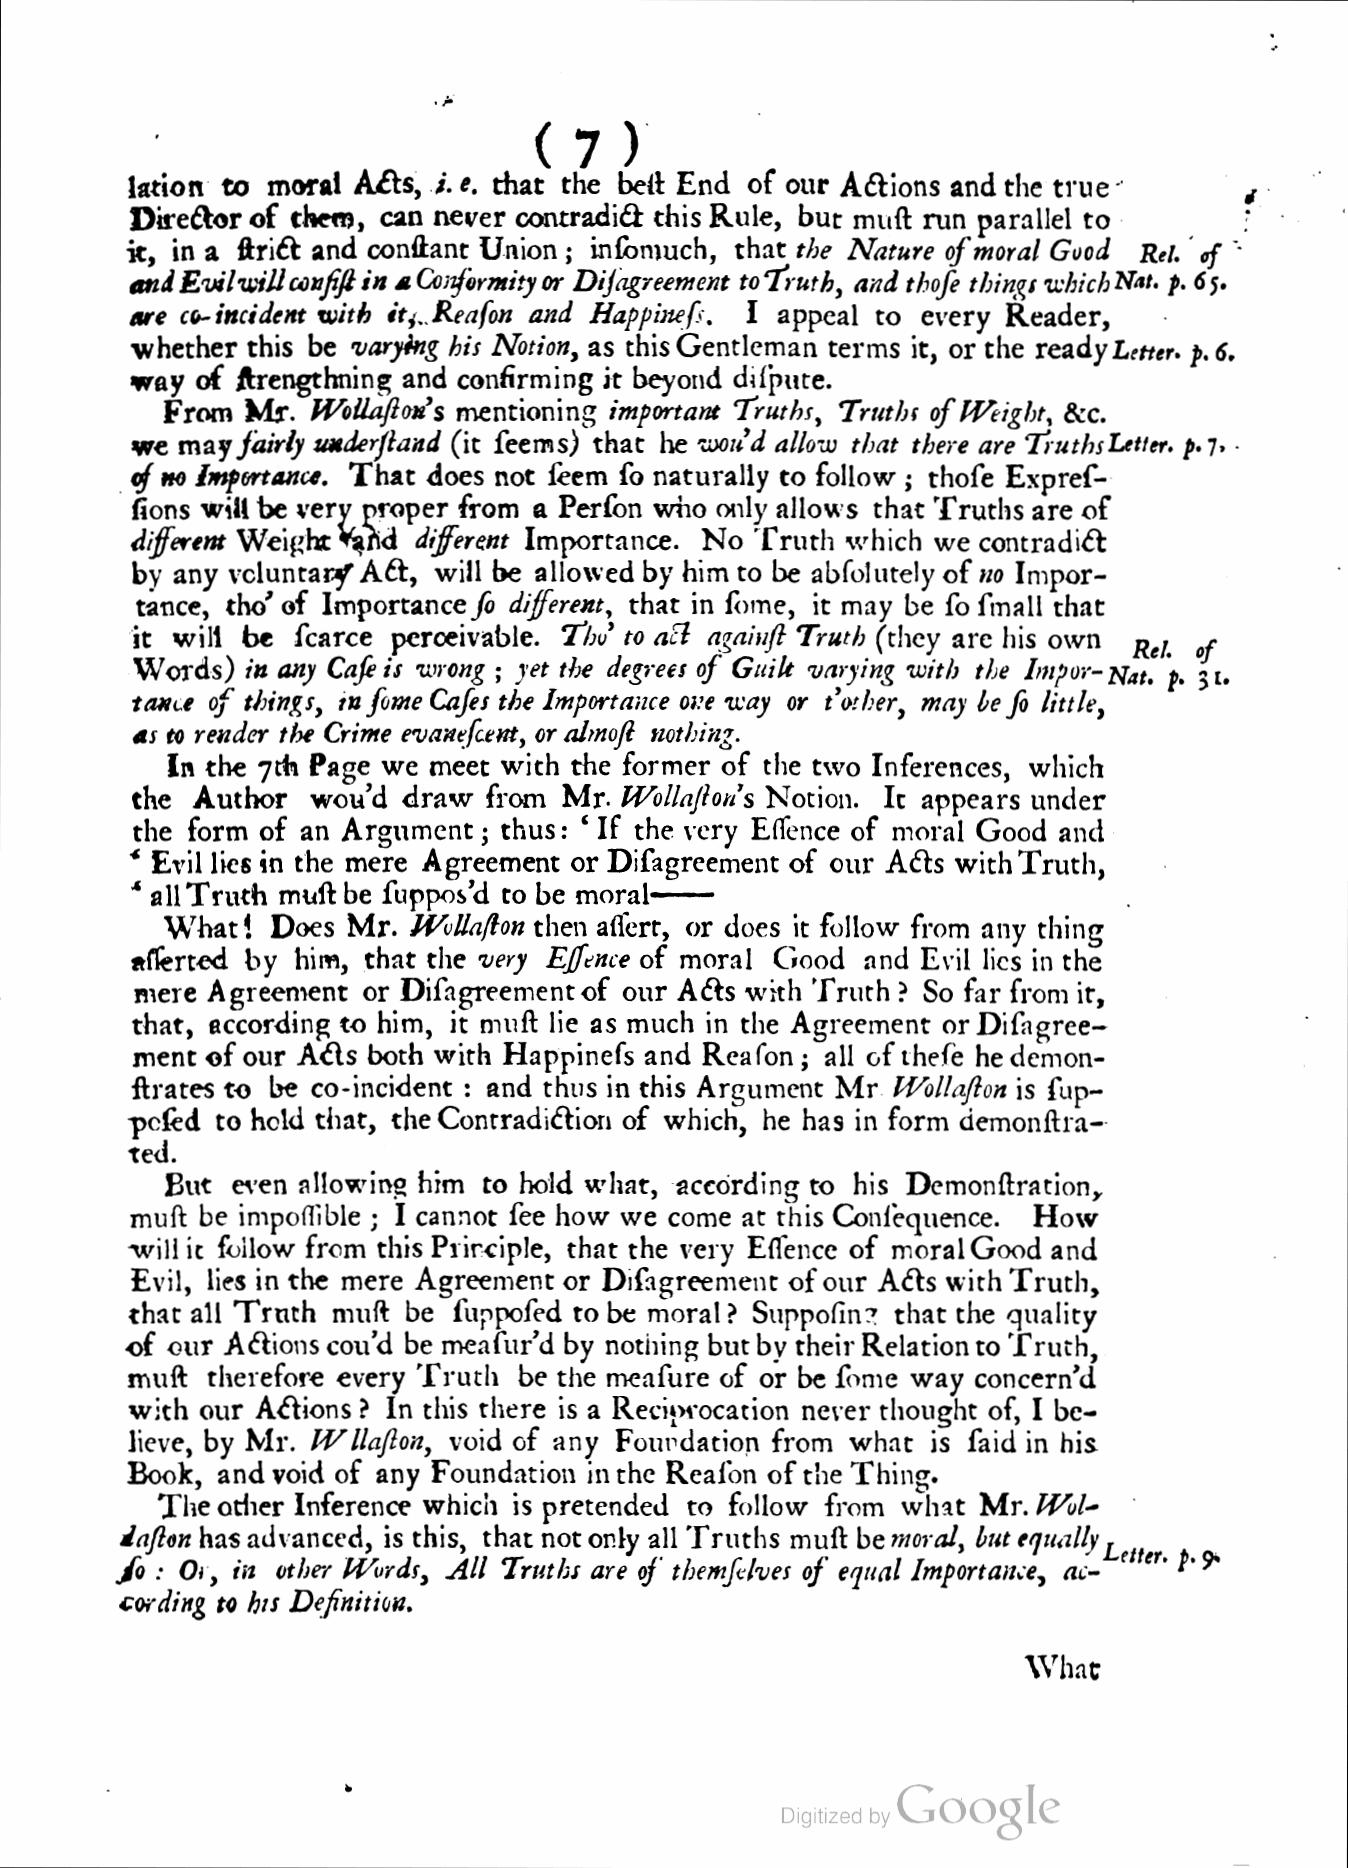bottom_p: (123, 170, 1117, 396)
catchword: (1024, 1649, 1104, 1682)
full_p: (112, 1169, 1106, 1616), (126, 394, 1109, 748), (122, 906, 1113, 1167), (123, 747, 1113, 908)
page_num: (567, 120, 609, 171)
print_marg: (1110, 632, 1236, 693), (1117, 241, 1235, 300), (1109, 425, 1232, 461), (1116, 332, 1235, 367), (1106, 1539, 1226, 1572)
